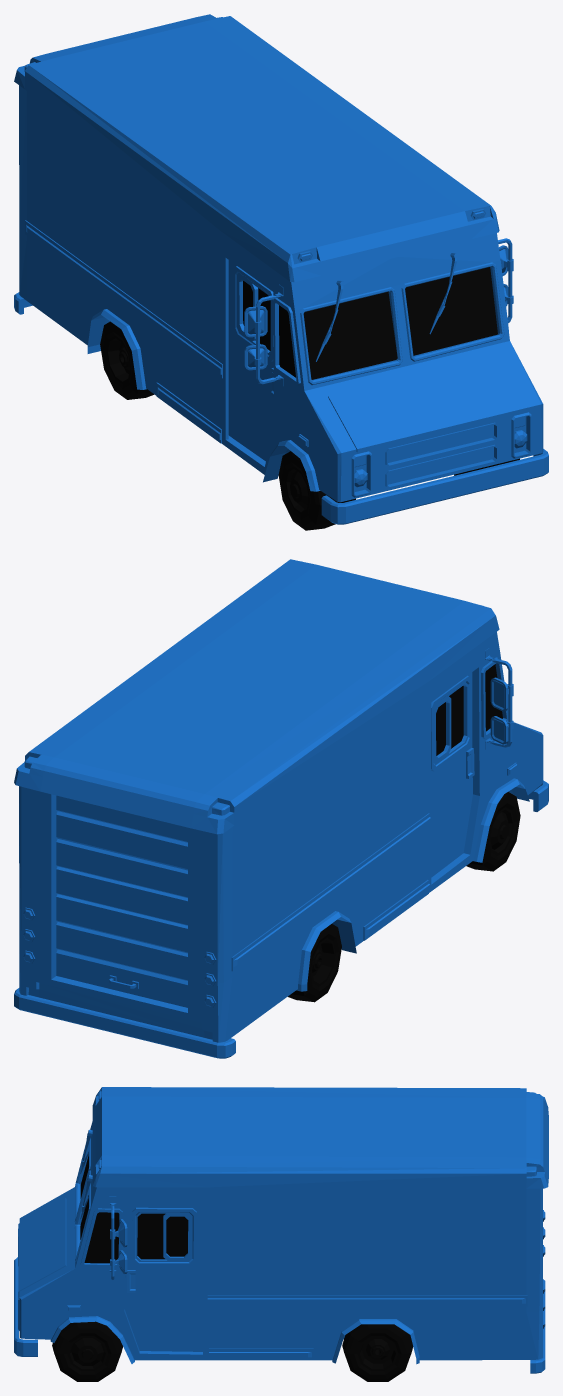
File: HALF_delivery_car.fbx
The picture shows the model from 3 angles, top to bottom: view 1: azimuth 30°, elevation 25°; view 2: azimuth 150°, elevation 25°; view 3: azimuth 270°, elevation 25°; orthographic projection. The views are drawn at different scales.
Visible parts, largest first — view 1: Symmetry_8, Cylinder_3, Cylinder_5; view 2: Symmetry_8, Cylinder_3, Cylinder_5; view 3: Symmetry_8, Cylinder_5, Cylinder_2.
Part boxes in pixels (bbox=[...]): Symmetry_8: bbox=[14, 14, 548, 524]; Cylinder_3: bbox=[278, 451, 355, 530]; Cylinder_5: bbox=[100, 321, 154, 399]; Symmetry_8: bbox=[14, 559, 548, 1058]; Cylinder_3: bbox=[466, 792, 520, 871]; Cylinder_5: bbox=[288, 924, 341, 1002]; Symmetry_8: bbox=[14, 1087, 548, 1373]; Cylinder_5: bbox=[342, 1324, 413, 1381]; Cylinder_2: bbox=[52, 1321, 122, 1381].
Size of the model in its own units: 241 by 234 by 521.
